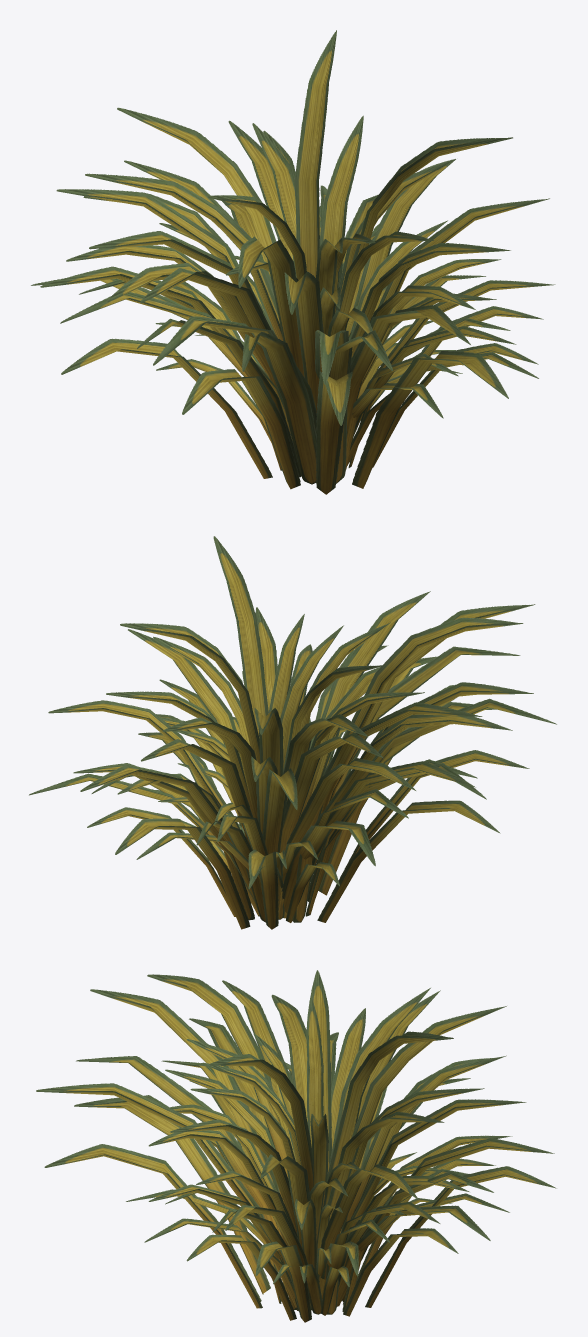
Rendered from MB_Pandanus_Variegatus_01.fbx.
3 views of the same model, one above another, from view 1: azimuth 30°, elevation 25°; view 2: azimuth 150°, elevation 25°; view 3: azimuth 270°, elevation 25° (orthographic). The views are drawn at different scales.
Parts seen in each view (by area): view 1: MB_Pandanus_Variegatus_01_LOD0; view 2: MB_Pandanus_Variegatus_01_LOD0; view 3: MB_Pandanus_Variegatus_01_LOD0.
Boxes of the visible parts, left/top/right/bottom form: MB_Pandanus_Variegatus_01_LOD0: left=31, top=30, right=555, bottom=494; MB_Pandanus_Variegatus_01_LOD0: left=29, top=536, right=556, bottom=929; MB_Pandanus_Variegatus_01_LOD0: left=36, top=970, right=556, bottom=1322.
Size of what is drawn, in the model's own units: 147 by 104 by 168.
